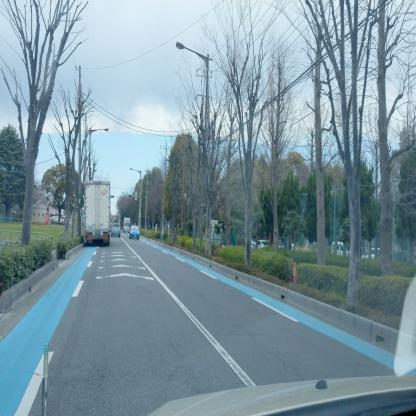Someiyoshino: (27, 176, 54, 212)
